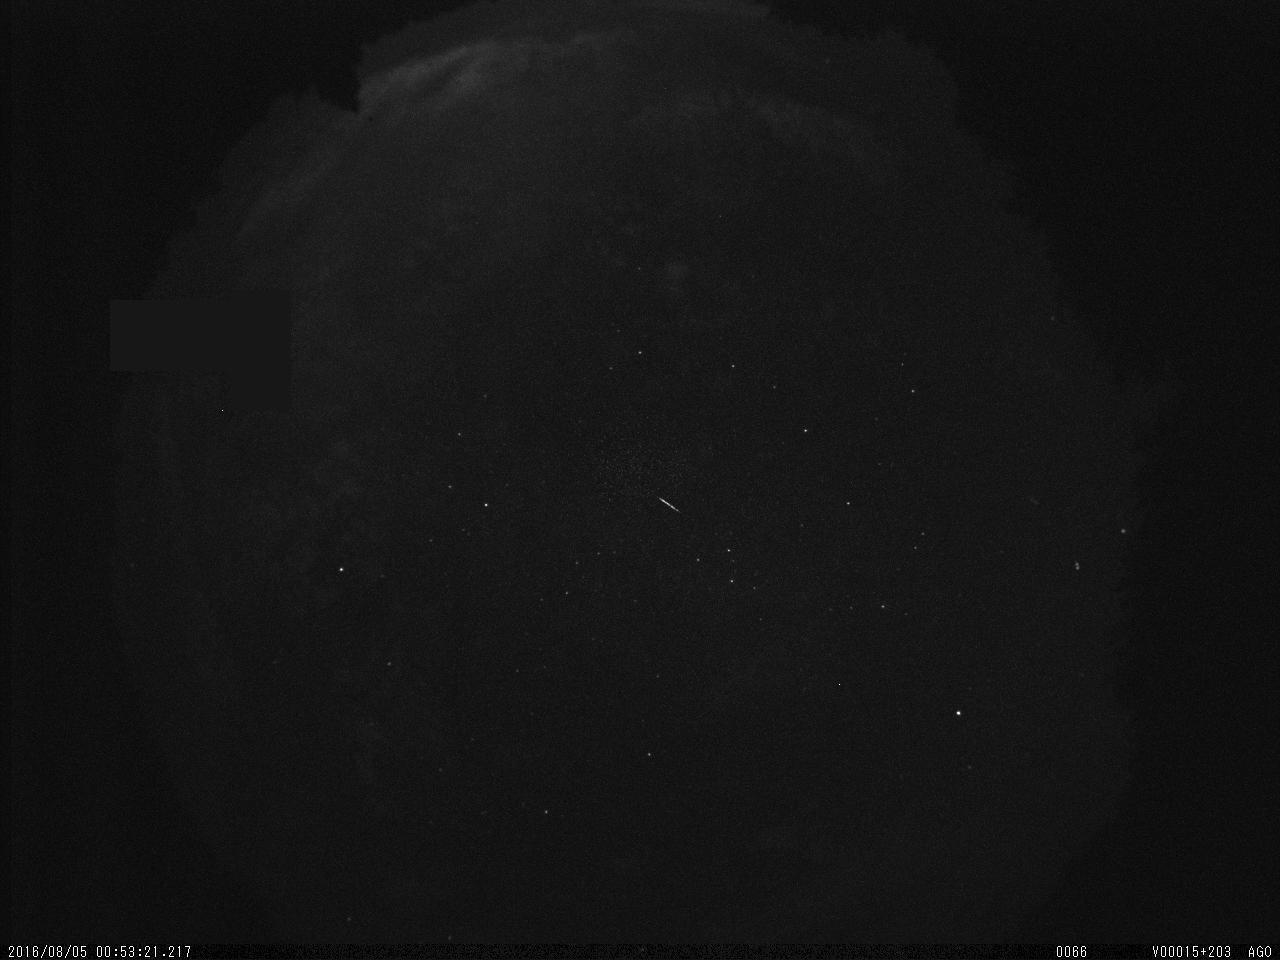Meteor: (655, 495, 680, 514)
